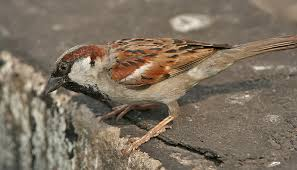hsparrow: (42, 33, 297, 150)
